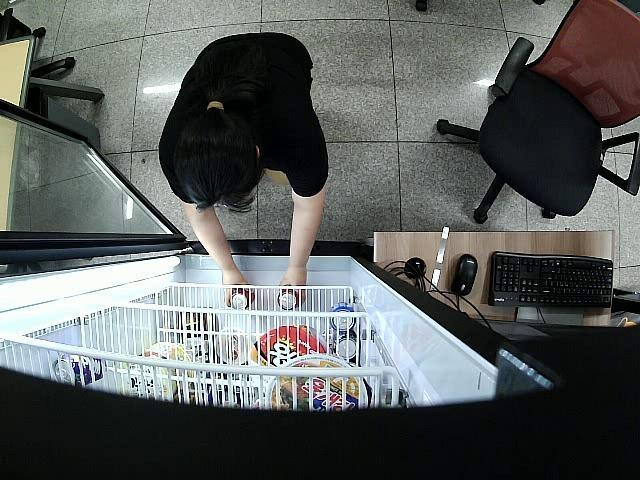11_cocaColaZero: (231, 288, 255, 310), (278, 288, 298, 310)
